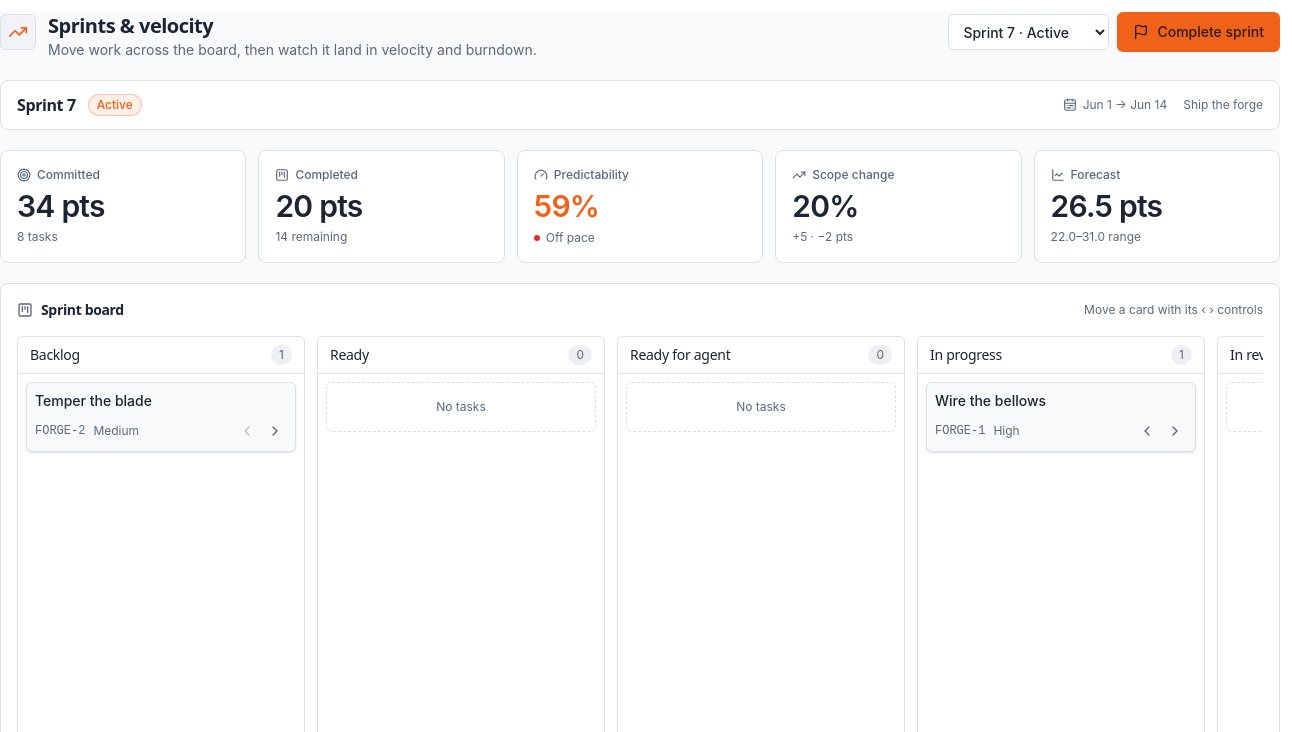
Test: SprintsView › switches the focused sprint and re-queries its burndown
The width and height of the screenshot is (1292, 732).
Expected: the element with test id "kpi-committed" is shown, [0,150,246,263]
Step 1. Select "Sprint 8 · Planned" in the dropdown with test id "sprint-picker" → (1029, 32), box [948,14,1109,50]
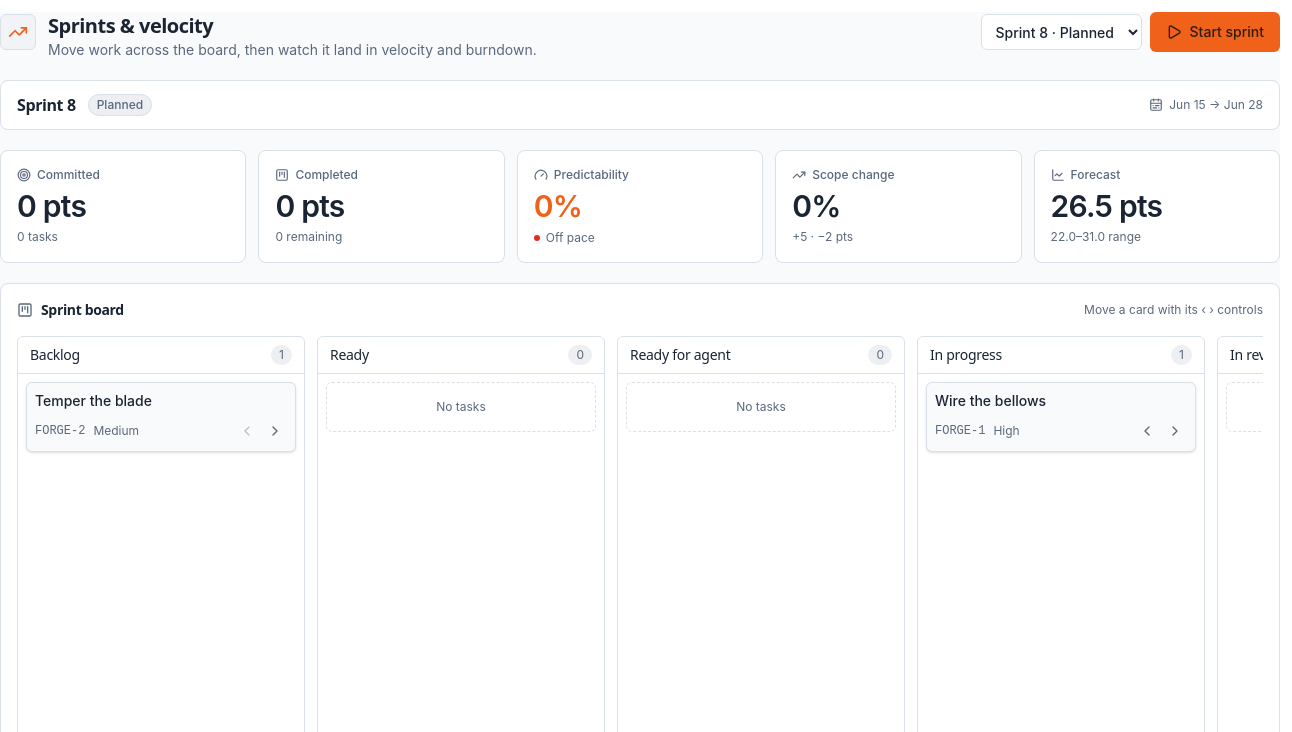
Expected: the button with test id "lifecycle-action" reads "Start sprint", [1150,12,1280,52]
